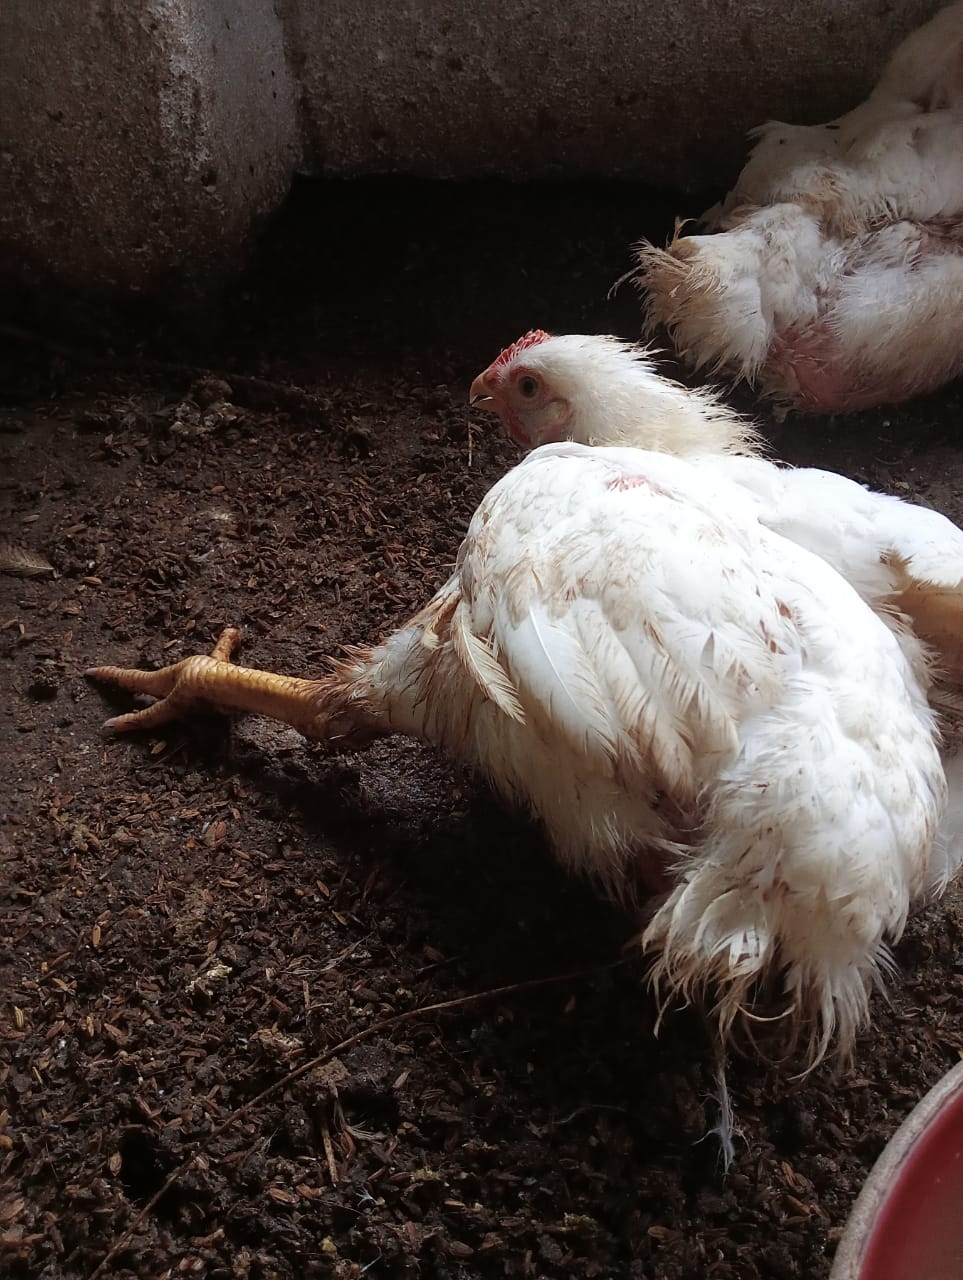Unhealthy: (80, 308, 963, 1021)
